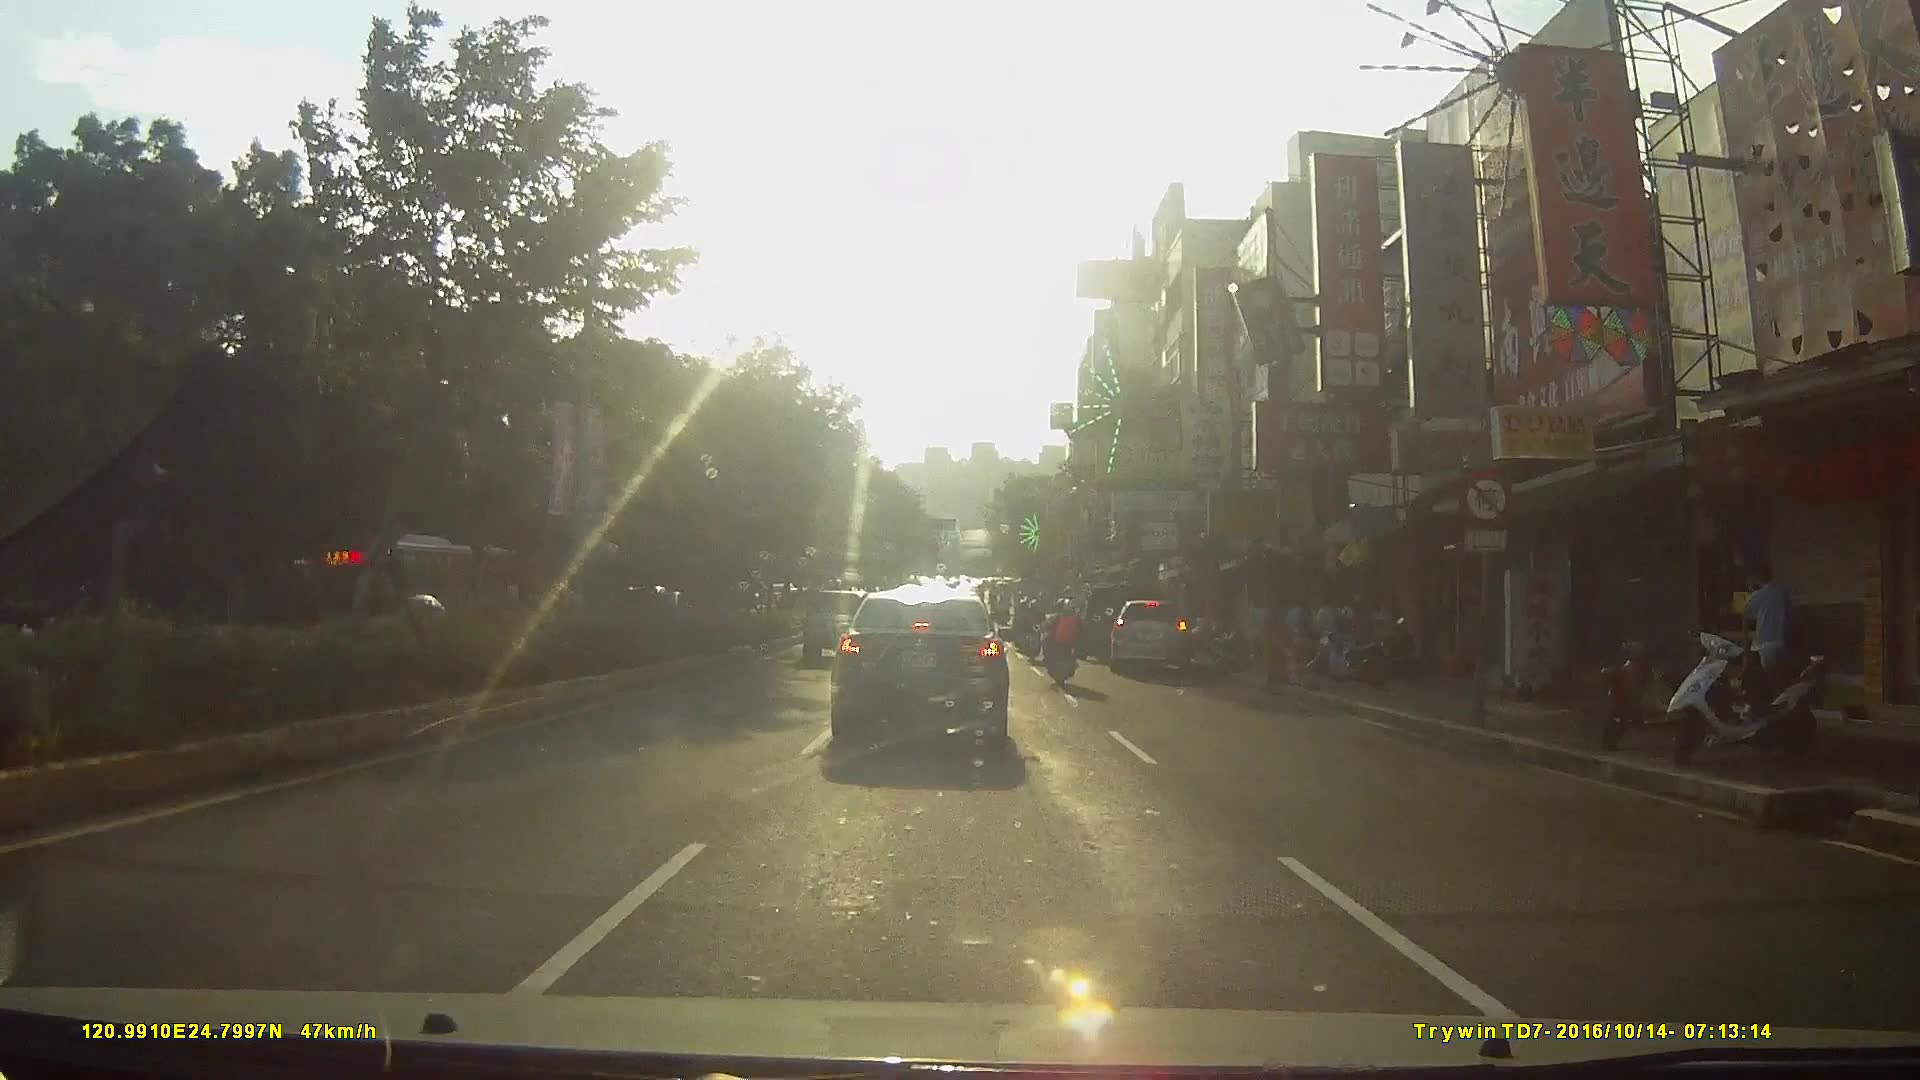pedestrian: (1736, 573, 1791, 727)
rider: (1048, 603, 1092, 700), (1017, 599, 1044, 664)
vehicle: (827, 588, 1031, 762), (304, 538, 521, 656), (1113, 595, 1202, 678)
